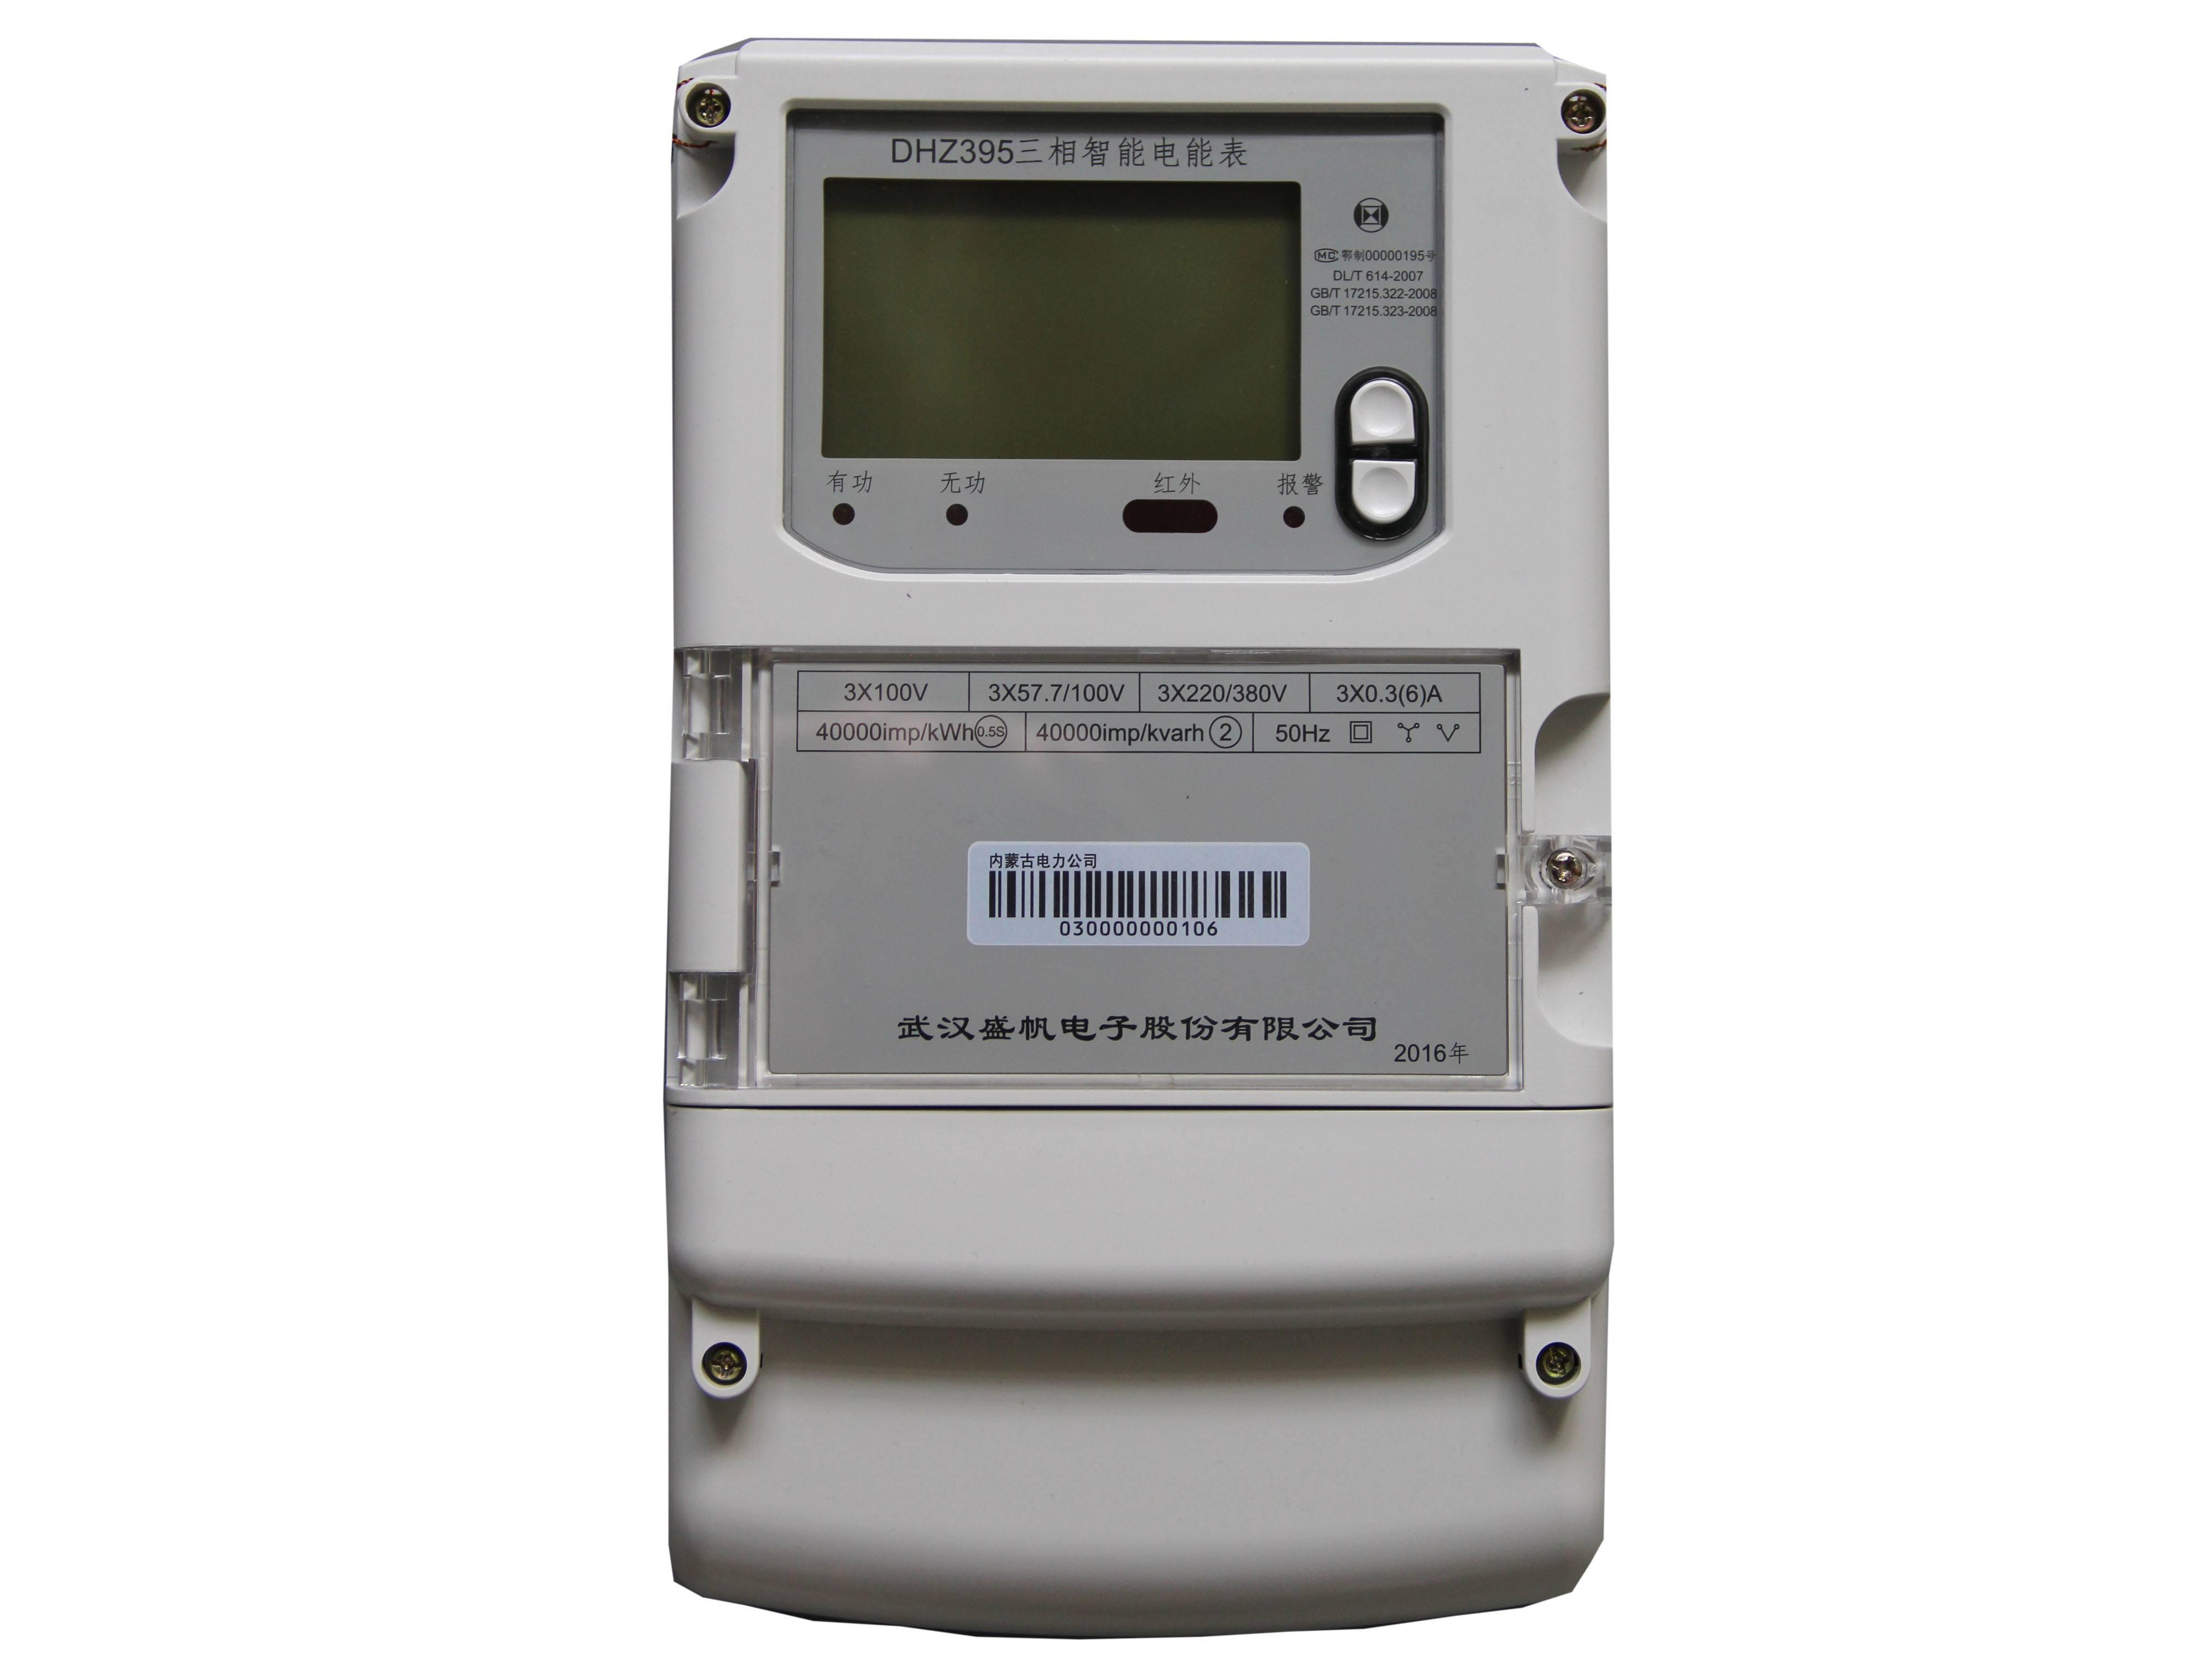digital: (665, 42, 1604, 1305)
